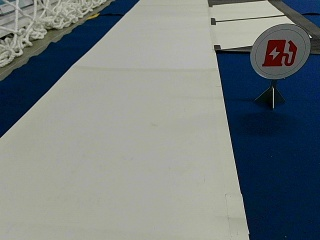battery: (250, 24, 309, 80)
